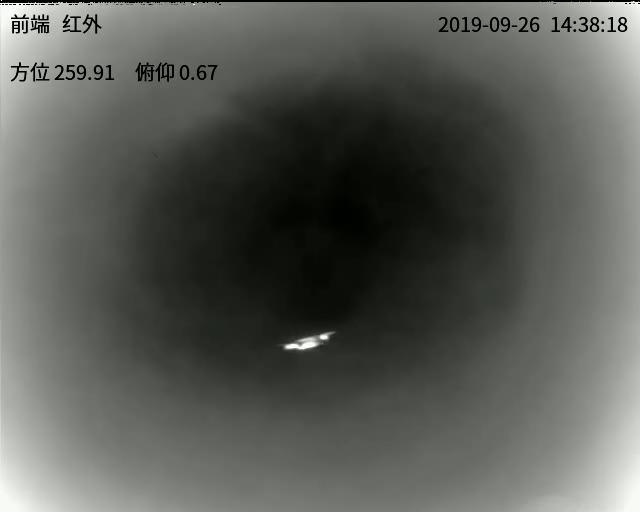uav: (272, 329, 336, 355)
